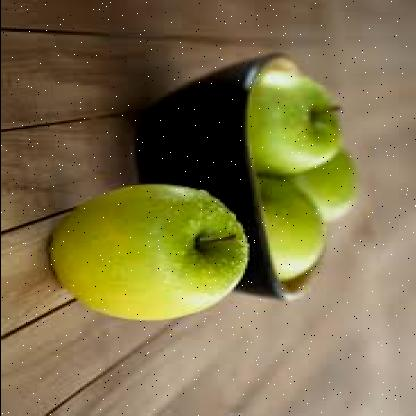apple: (57, 184, 240, 320), (251, 67, 355, 170), (252, 173, 326, 287)
